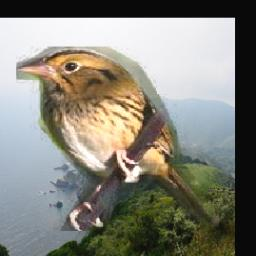Sparrow: (15, 47, 218, 231)
